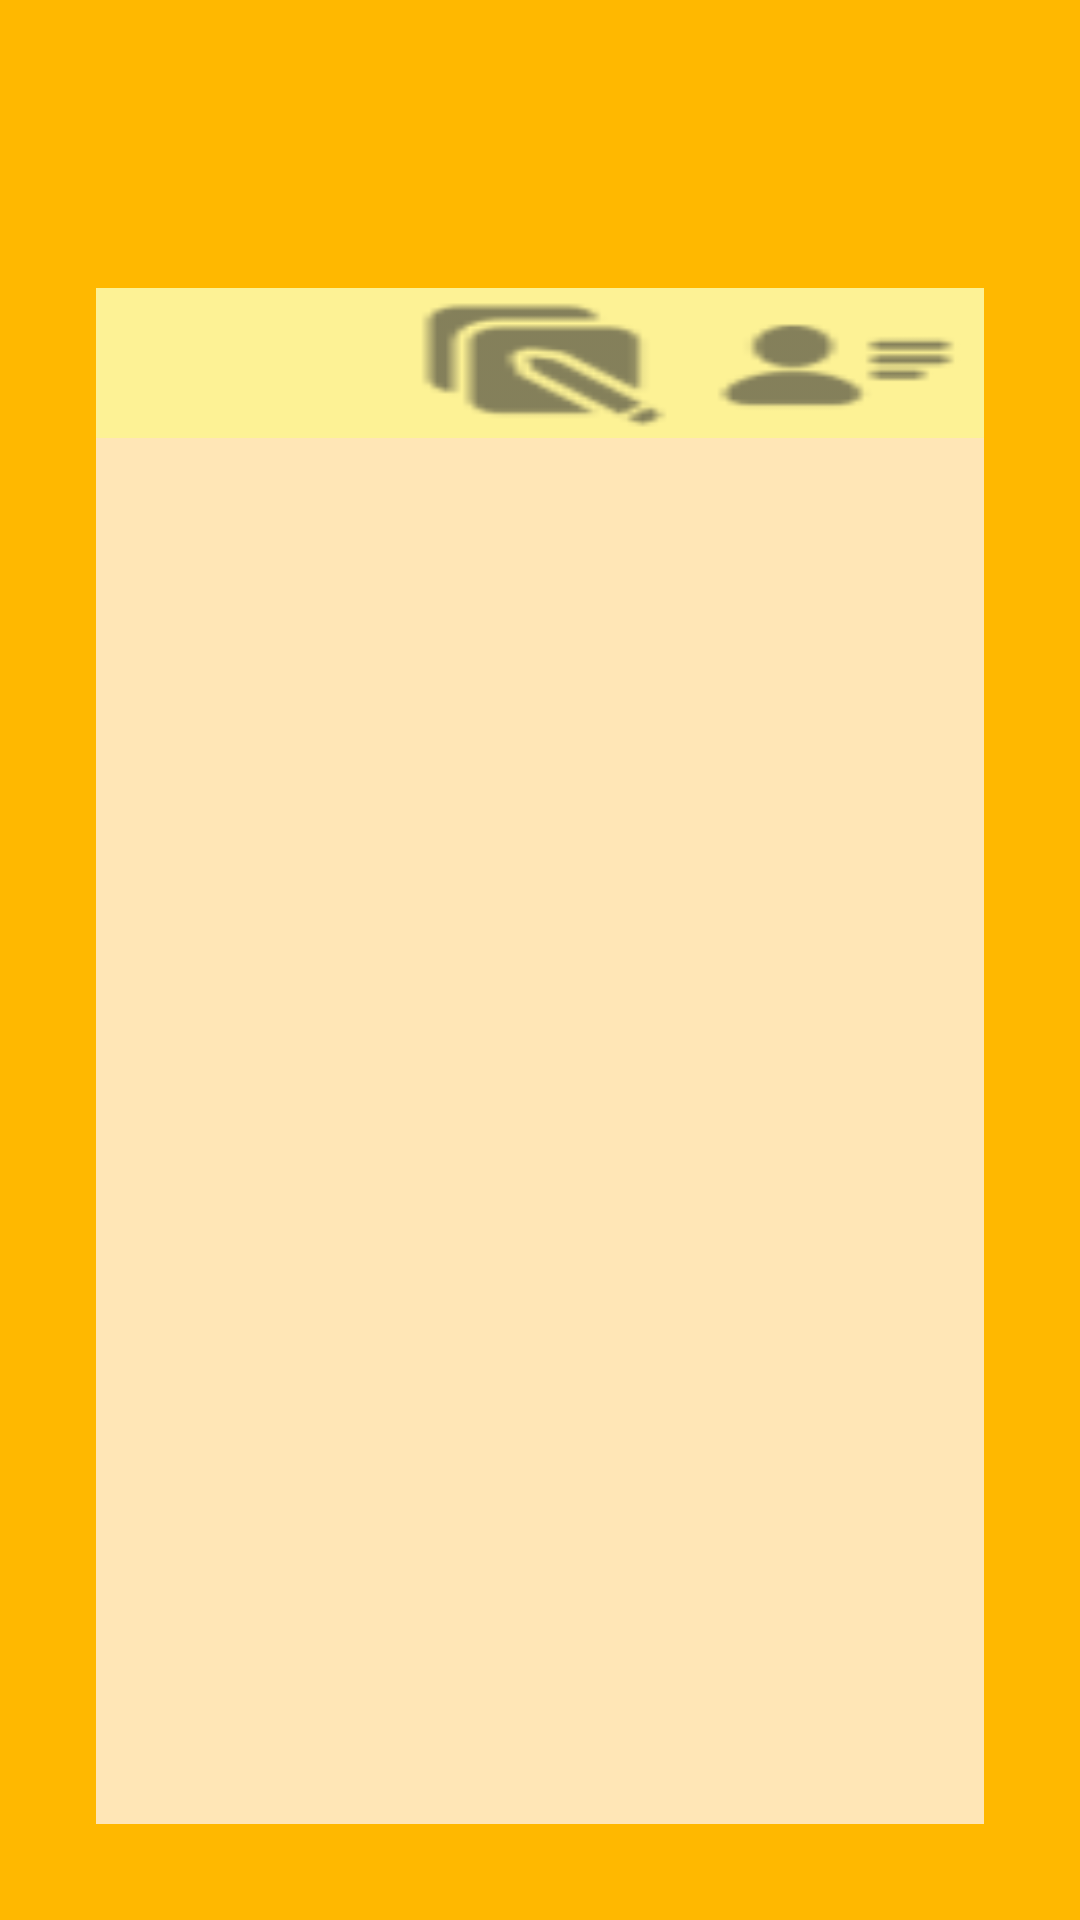

Where to tap for icons on this 1080*1920 app screen, as (x=x, y=y):
post: (x=543, y=364)
user settings: (x=836, y=363)
